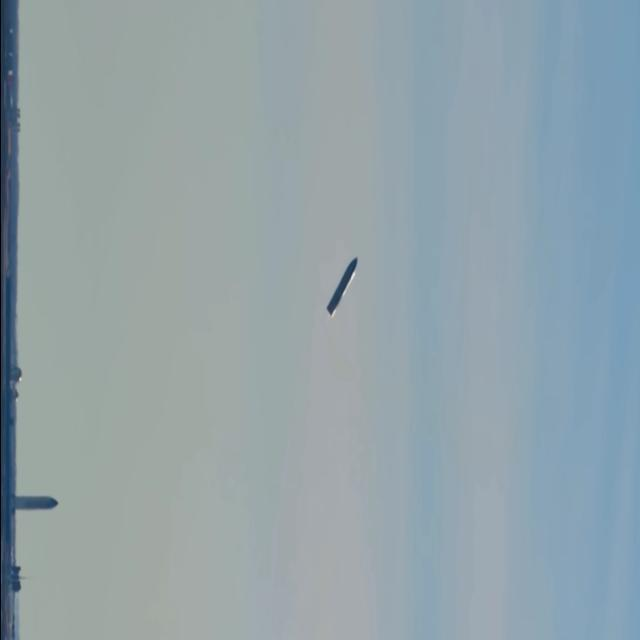missile: (330, 253, 359, 320)
